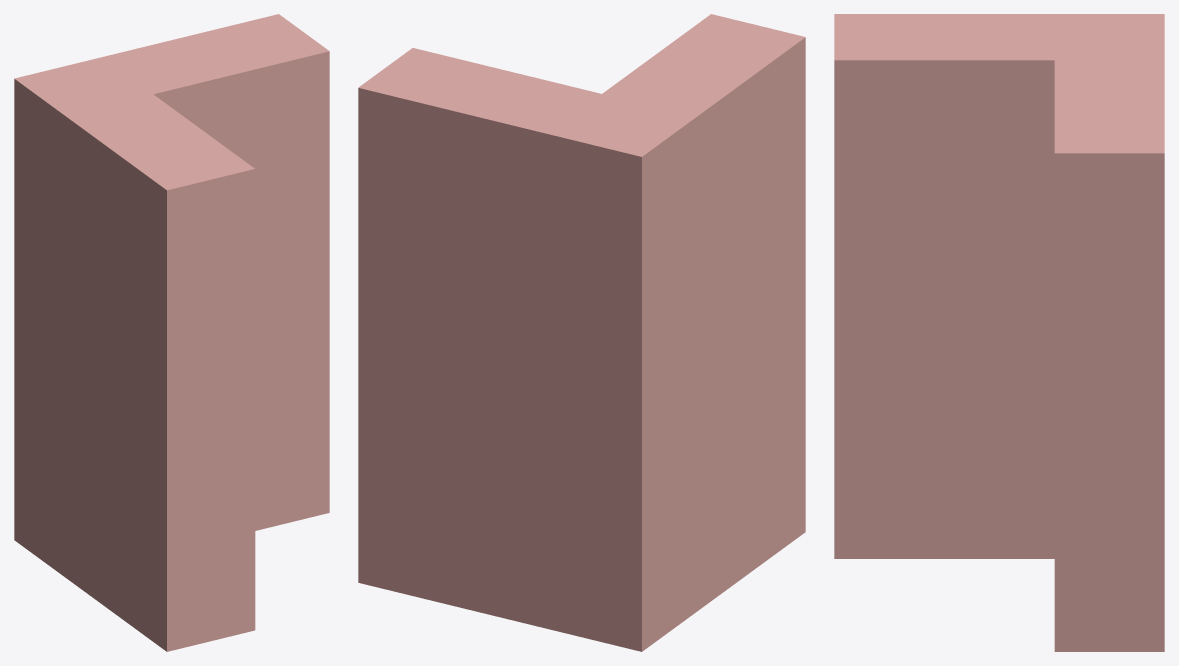
The model's file is corner.glb.
3 renders of one model, left to right at view 1: azimuth 30°, elevation 25°; view 2: azimuth 150°, elevation 25°; view 3: azimuth 270°, elevation 25°, orthographic. The views are drawn at different scales.
Visible parts, largest first — view 1: Plane.002; view 2: Plane.002; view 3: Plane.002.
Part boxes in pixels (box(x1,y1,x2,y2)): Plane.002: box(14, 14, 329, 651); Plane.002: box(358, 14, 805, 651); Plane.002: box(834, 14, 1164, 651).
Size of the model in its own units: 0.6 by 1 by 0.6.
